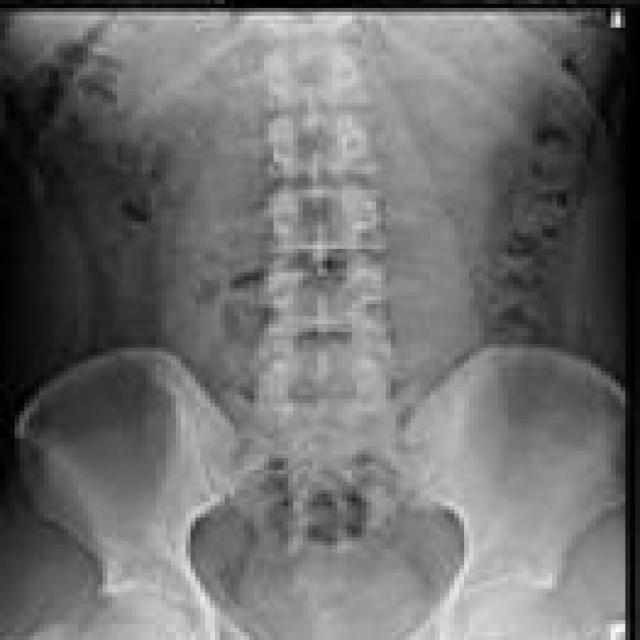Hairline: (500, 8, 620, 64)
